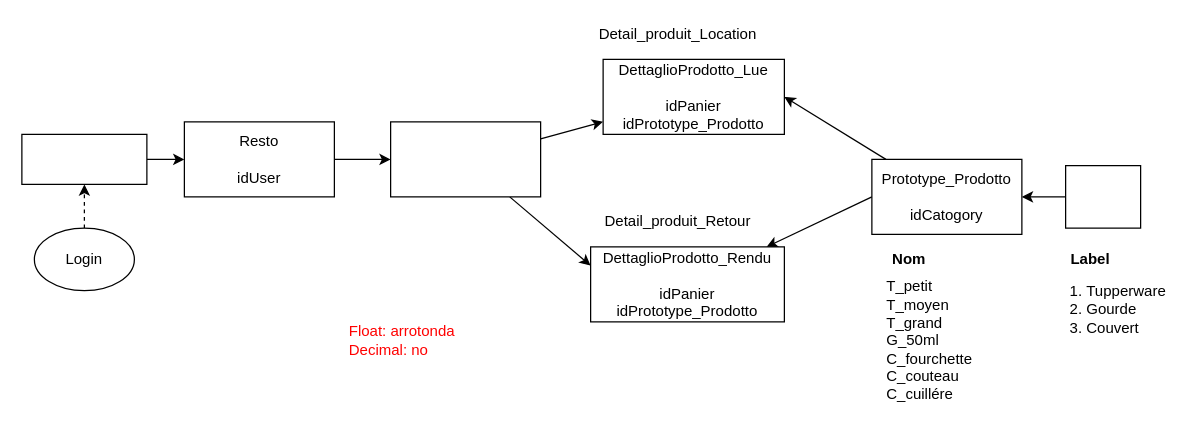
Image size: 1189x430. Some labels were removed from this diagram. Here are the shapes that lost their labels. From the top down, the box of each, then its label:
(21, 133, 147, 184): User
(389, 121, 541, 197): Panier idResto
(1064, 164, 1141, 228): Category
